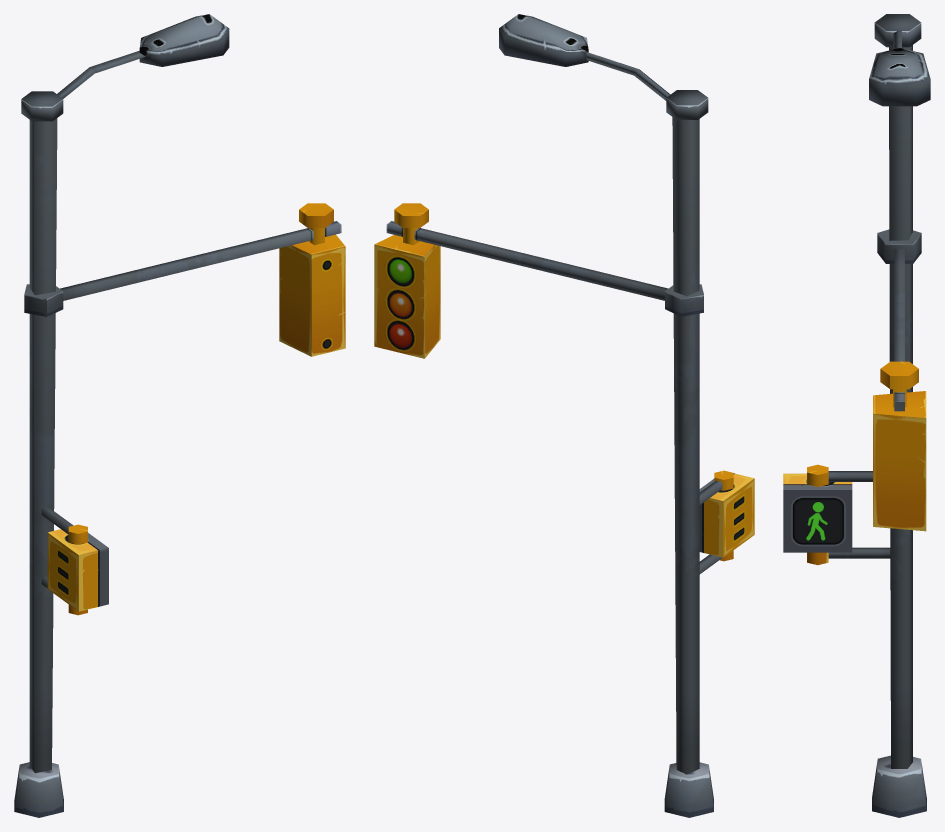
File: SYJ_ludeng03.FBX
3 renders of one model, left to right at view 1: azimuth 30°, elevation 25°; view 2: azimuth 150°, elevation 25°; view 3: azimuth 270°, elevation 25°, orthographic. The views are drawn at different scales.
Visible parts, largest first — view 1: SYJ_renxingdao01; view 2: SYJ_renxingdao01; view 3: SYJ_renxingdao01.
Boxes of the visible parts, x1,y1,x2,y2 form: SYJ_renxingdao01: (14, 14, 345, 817); SYJ_renxingdao01: (374, 14, 754, 817); SYJ_renxingdao01: (783, 14, 930, 817).
Bounding box in the file's own units: 517 × 1132 × 182.
